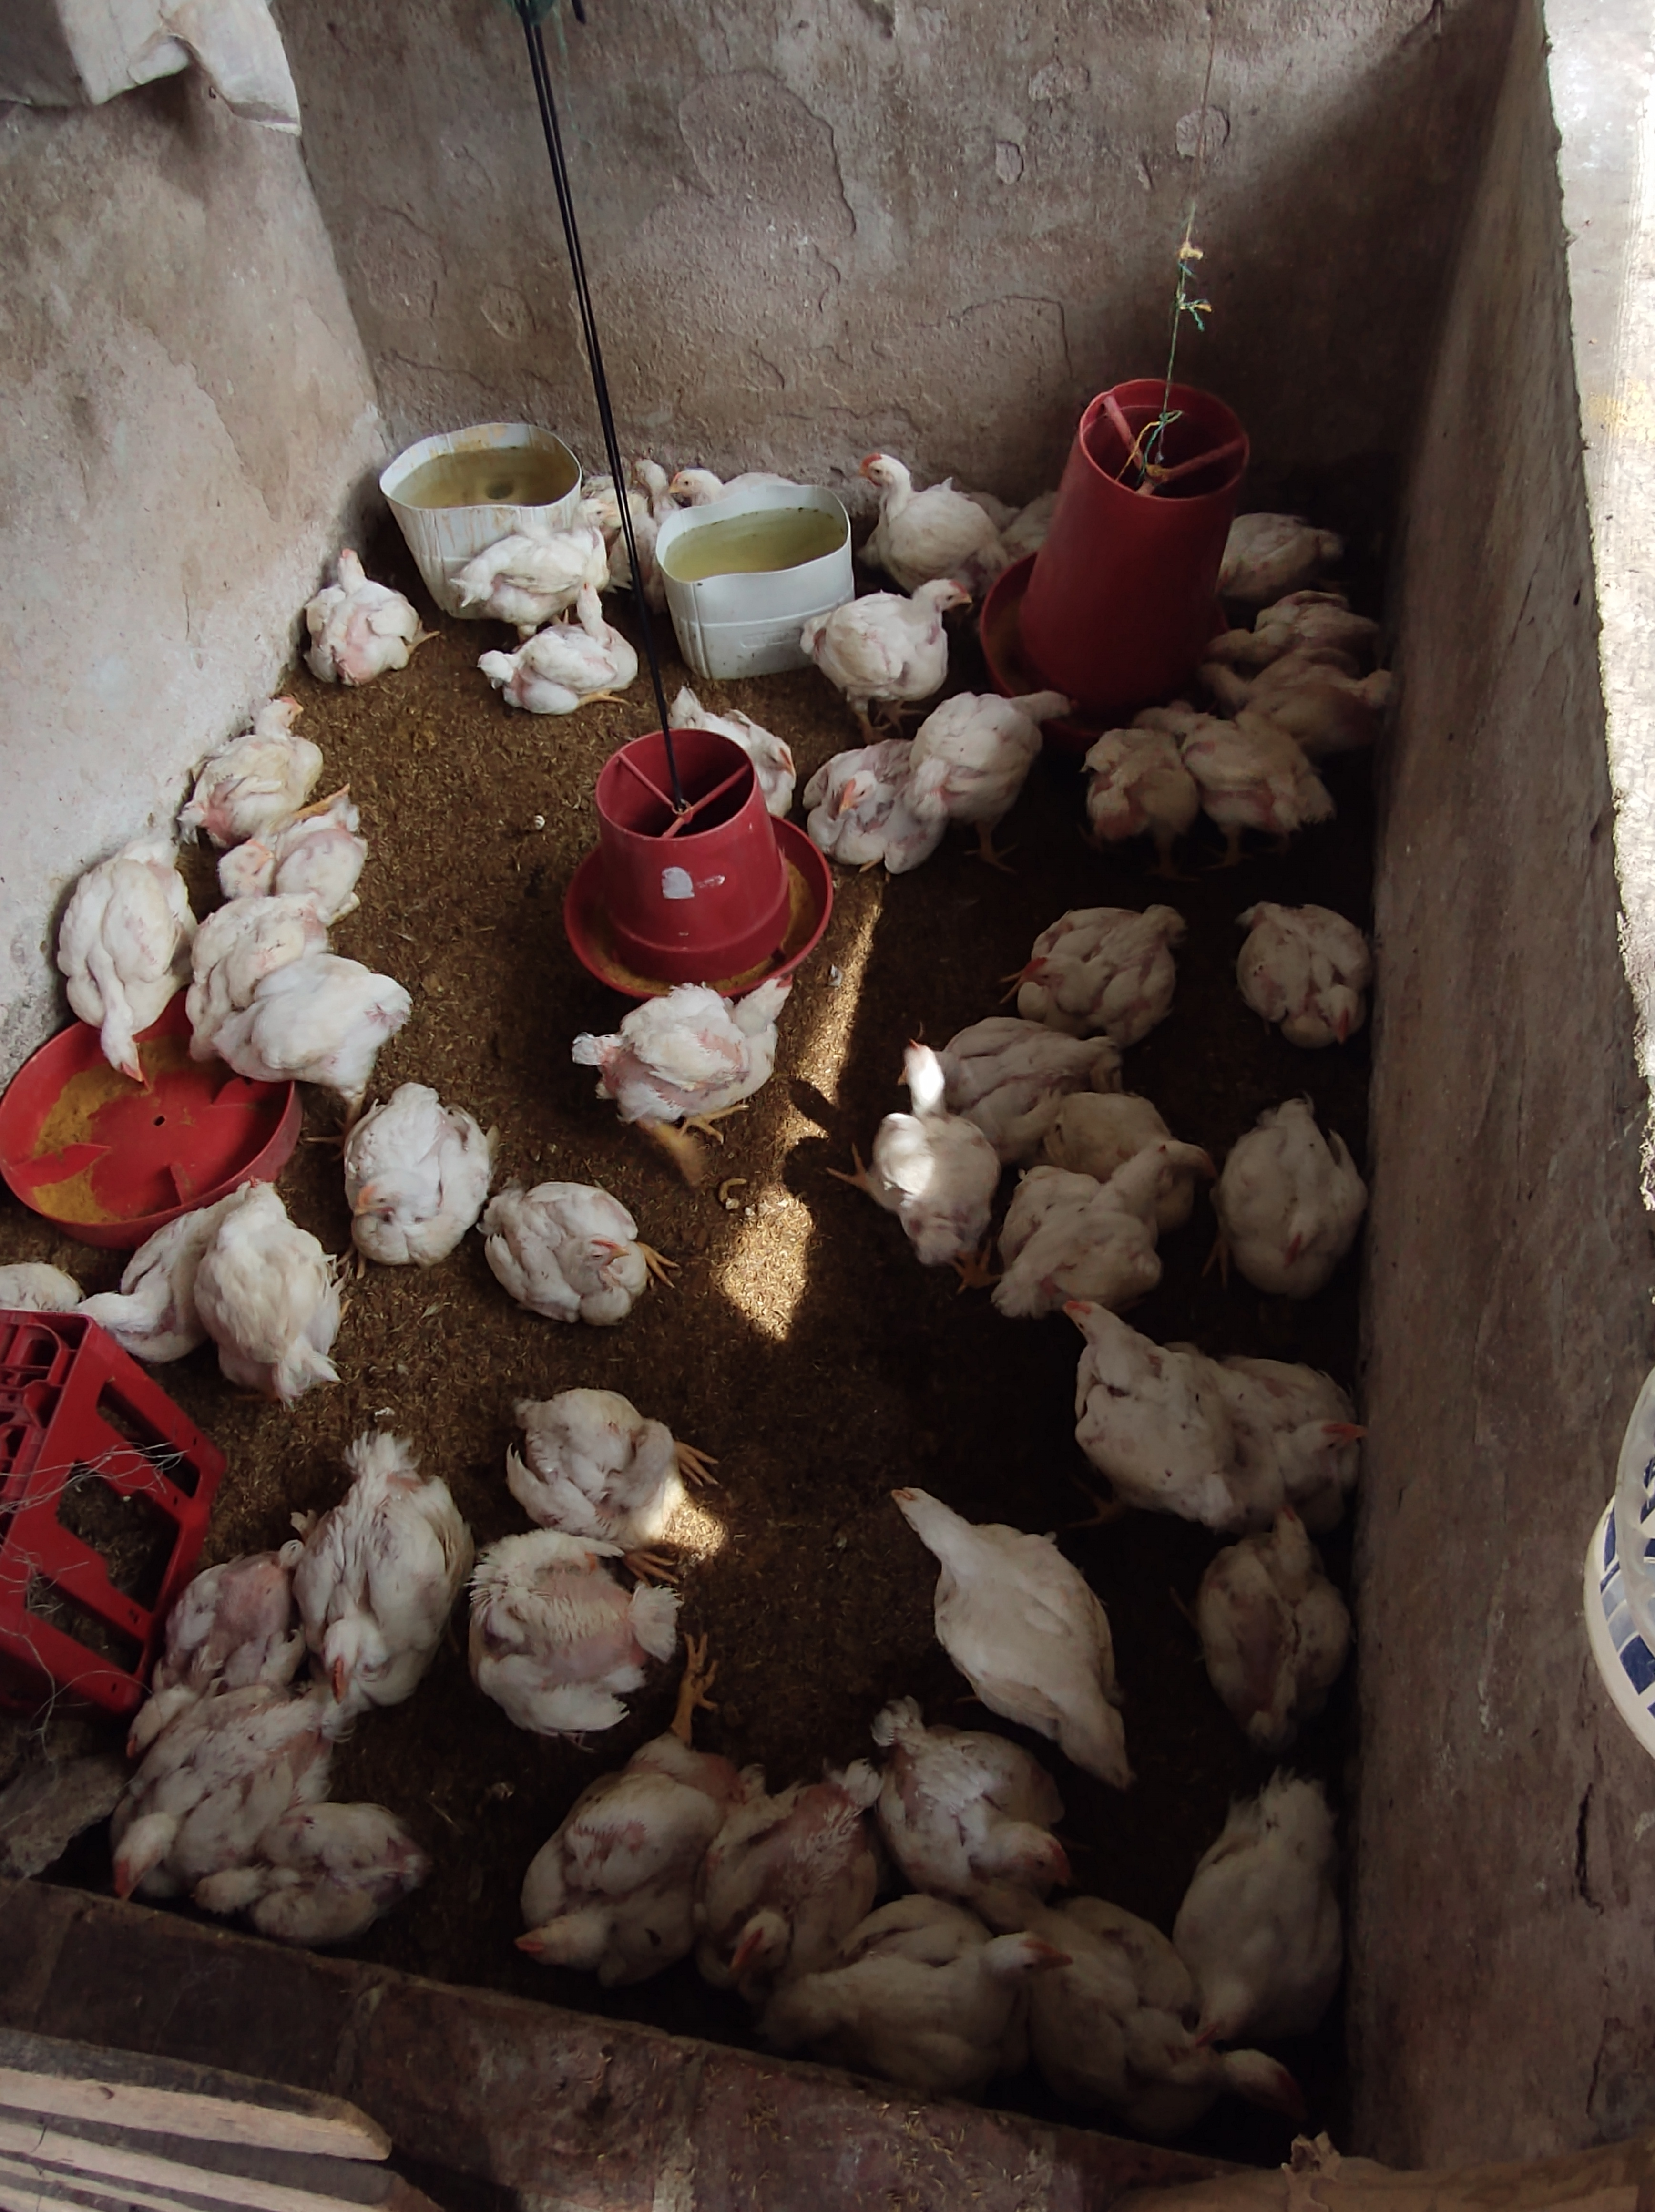Pollos: (887, 1482, 1137, 1767), (1052, 1296, 1260, 1515), (511, 1765, 718, 1970), (1191, 1791, 1337, 2052), (299, 1461, 450, 1692), (471, 1532, 668, 1706), (586, 972, 796, 1122), (216, 944, 424, 1092), (200, 1179, 348, 1384), (711, 1786, 855, 1988), (504, 1391, 708, 1534), (57, 857, 186, 1080), (1217, 1499, 1339, 1732), (1015, 1132, 1173, 1304), (198, 1802, 410, 1925), (904, 1739, 1080, 1885), (120, 1563, 245, 1763), (348, 1085, 492, 1257), (883, 1897, 1060, 2029), (871, 1043, 980, 1257), (1236, 1103, 1356, 1292), (1074, 687, 1208, 835), (494, 1193, 655, 1315), (930, 680, 1076, 802), (817, 576, 975, 687), (1248, 903, 1375, 1040), (188, 683, 309, 823), (216, 795, 377, 897), (1200, 652, 1386, 739), (1034, 901, 1184, 998), (847, 450, 987, 553), (308, 546, 422, 671), (513, 574, 624, 697), (1212, 581, 1377, 659), (103, 1779, 200, 1897), (817, 743, 914, 849), (1274, 1381, 1351, 1489), (518, 490, 614, 576), (742, 711, 805, 803), (662, 461, 777, 504)
